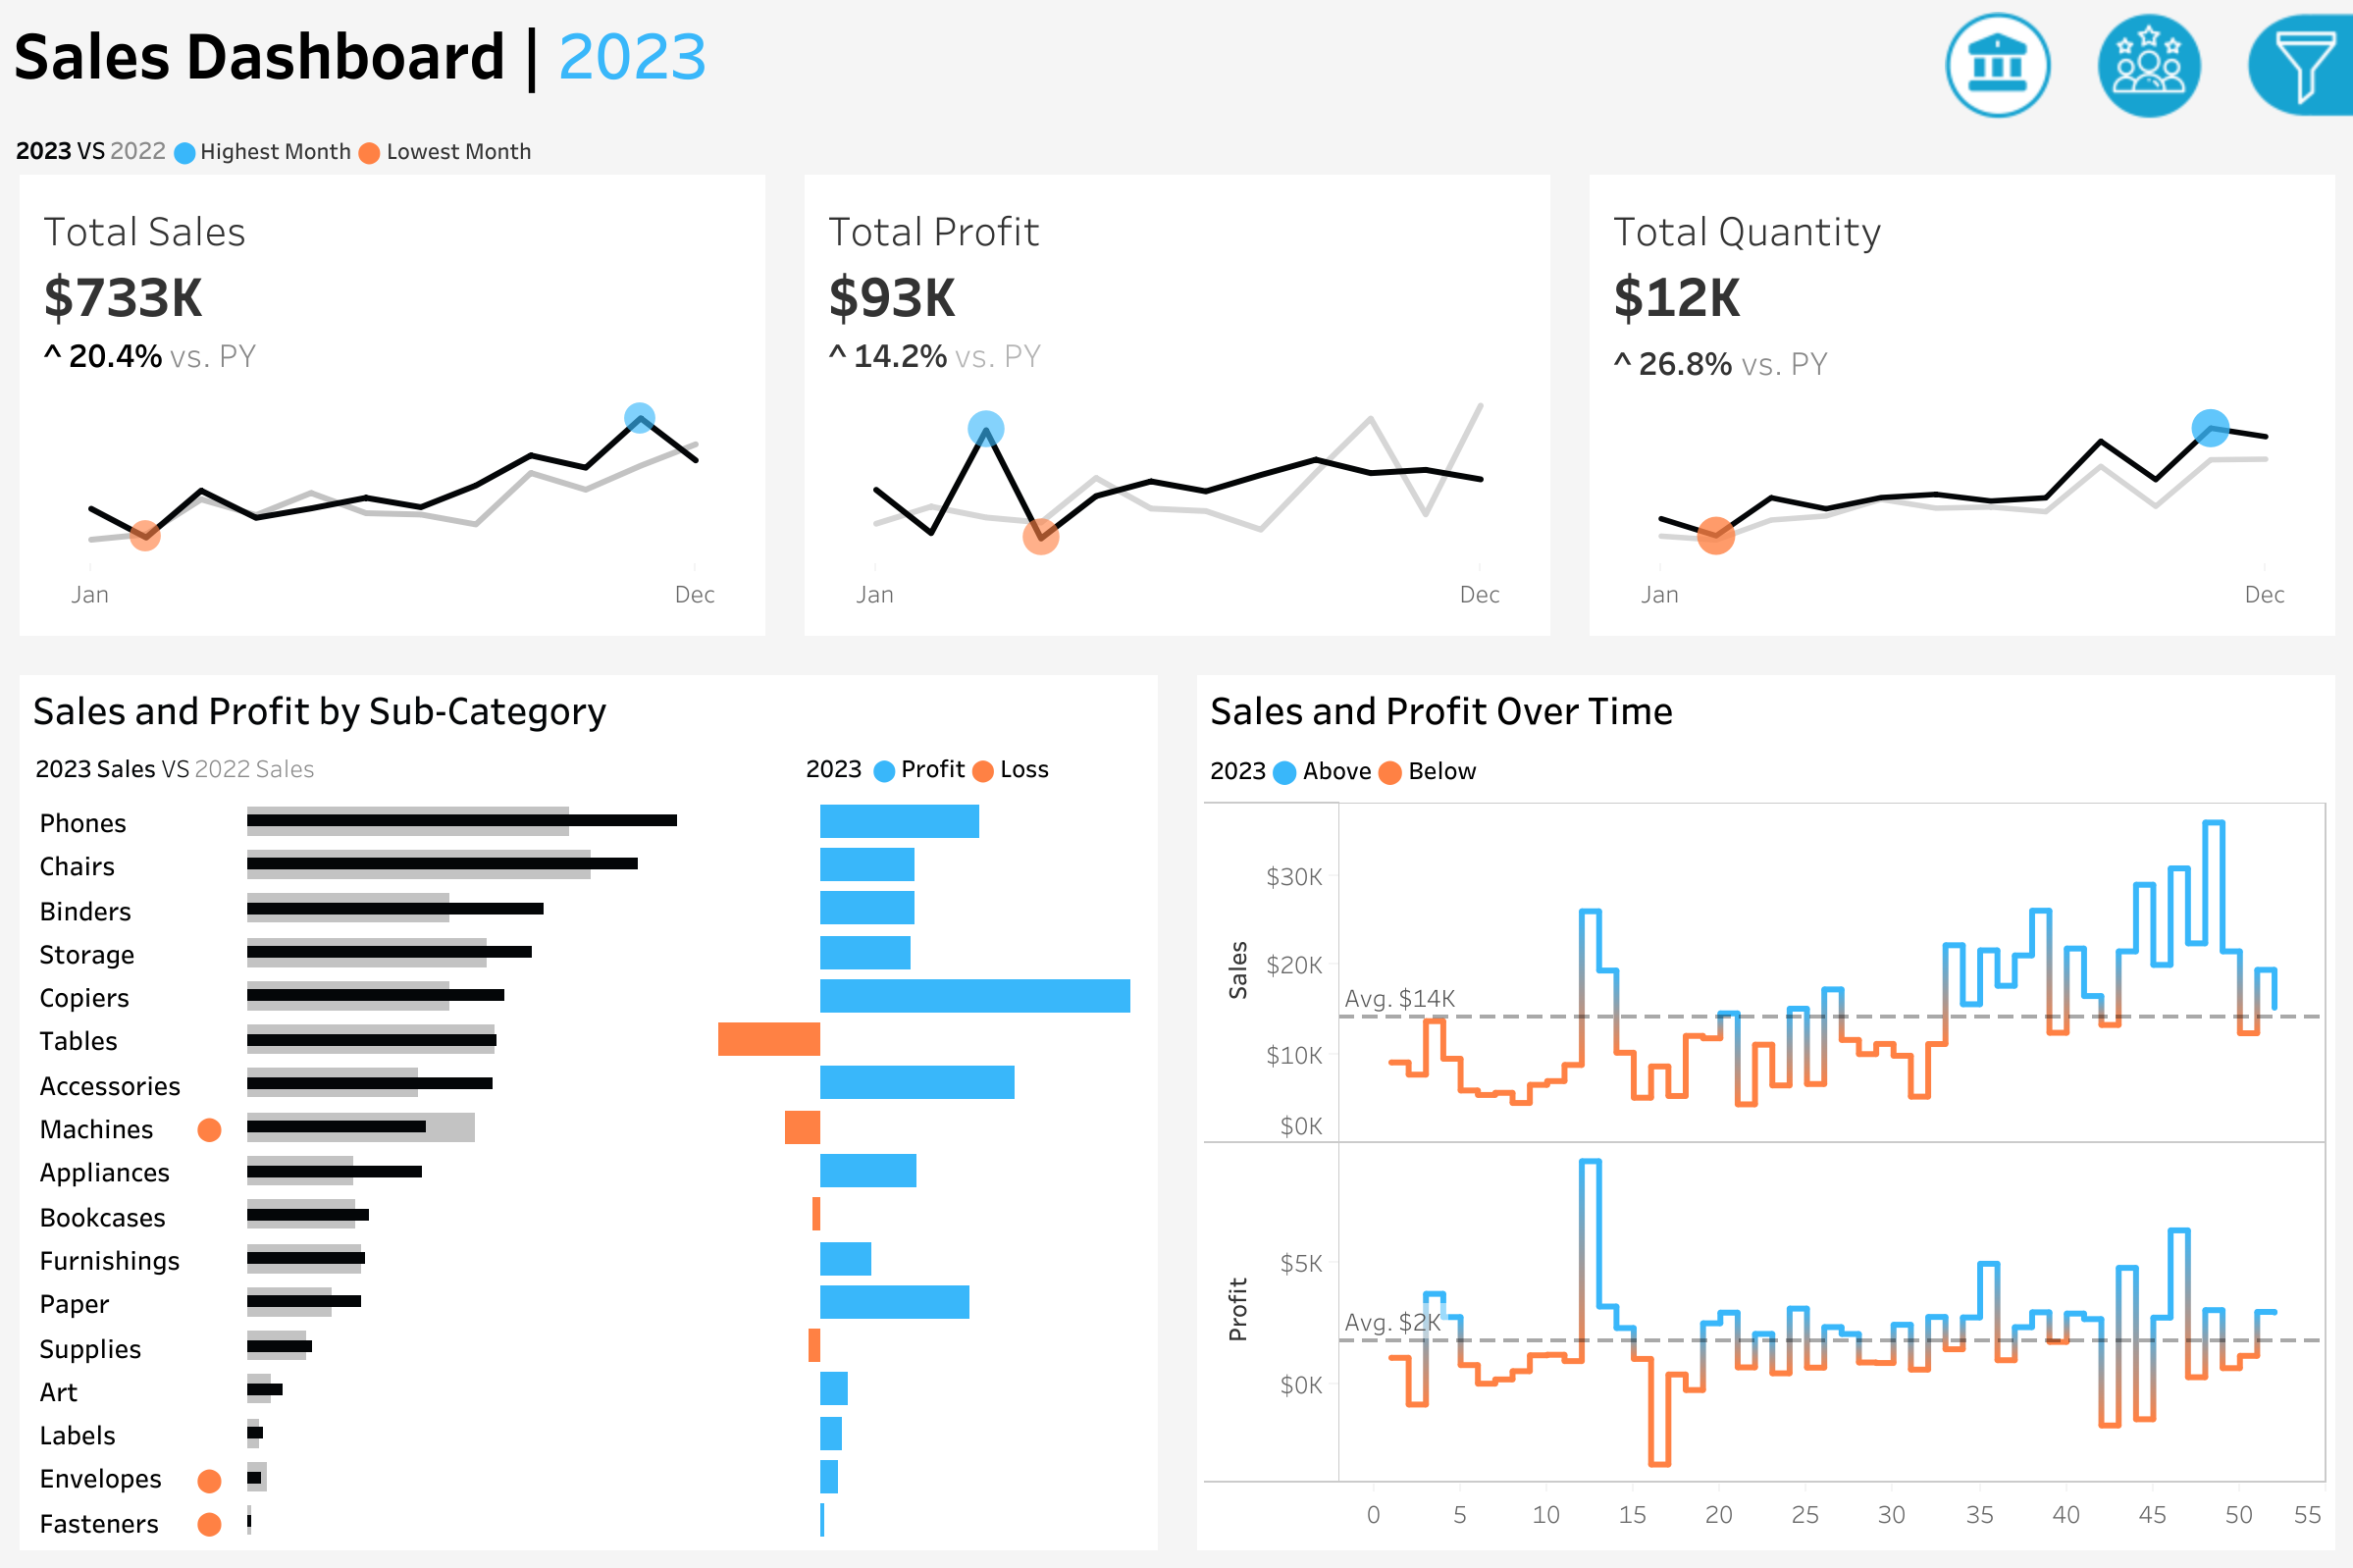

The dashboard page shown, as its layout file describes it:
{"tool":"tableau","page":{"name":"Sales Dashboard","canvas":[1200,800],"ordinal":1},"visuals":[{"type":"text","box":[0,0,1200,53]},{"type":"dashboard-object","box":[980,2,77,63]},{"type":"dashboard-object","box":[1057,2,77,63]},{"type":"blank","box":[993,10,196,69]},{"type":"worksheet","title":"Legend (2)","mark":"Automatic","box":[0,63,1200,26]},{"type":"text","box":[993,79,196,59]},{"type":"worksheet","title":"KPI Sales","mark":"Automatic","rows":["MIN | MAX Quantity (copy)_299419042047496198"],"cols":["Order Date"],"box":[0,89,400,245]},{"type":"worksheet","title":"KPI Profit","mark":"Automatic","rows":["Calculation_205828611909148677"],"cols":["Order Date"],"box":[400,89,400,245]},{"type":"worksheet","title":"KPI Quantity","mark":"Automatic","rows":["Calculation_205828611934814224"],"cols":["Order Date"],"box":[800,89,400,245]},{"type":"parameter","param":"[Parameters].[Parameter 1]","box":[993,138,196,52]},{"type":"text","box":[993,190,196,29]},{"type":"filter","title":"KPI Sales","param":"[federated.1i45uu91itpw5q1952eqr0znw85j].[none:Category:nk]","box":[993,219,196,52]},{"type":"filter","title":"KPI Sales","param":"[federated.1i45uu91itpw5q1952eqr0znw85j].[none:Sub-Category:nk]","box":[993,271,196,52]},{"type":"text","box":[993,323,196,29]},{"type":"text","box":[10,344,580,34]},{"type":"text","box":[610,344,580,34]},{"type":"filter","title":"KPI Sales","param":"[federated.1i45uu91itpw5q1952eqr0znw85j].[none:Region:nk]","box":[993,352,196,52]},{"type":"worksheet","title":"Legend","mark":"Automatic","box":[10,378,394,25]},{"type":"text","box":[404,378,186,25]},{"type":"text","box":[610,378,580,25]},{"type":"worksheet","title":"Sub-Category Comparsion","mark":"Bar","rows":["Sub-Category","Calculation_299419042020941826"],"cols":["Calculation_299419042016567297","Calculation_299419042016423936","Calculation_205828611903479809"],"box":[10,403,580,387]},{"type":"worksheet","title":"Trends by Week","mark":"Automatic","rows":["Calculation_299419042016423936","Calculation_205828611903479809"],"cols":["Order Date"],"box":[610,403,580,387]},{"type":"filter","title":"KPI Sales","param":"[federated.1i45uu91itpw5q1952eqr0znw85j].[none:State:nk]","box":[993,404,196,52]},{"type":"filter","title":"KPI Sales","param":"[federated.1i45uu91itpw5q1952eqr0znw85j].[none:City:nk]","box":[993,456,196,52]}]}

Visuals, with their boxes in screenshot pixels (x1, y1, x2, y2), scaled from the page's 1200x800 canvas onto the 2353x1568 screenshot:
text: bbox(0, 0, 2352, 104)
dashboard-object: bbox(1921, 4, 2072, 128)
dashboard-object: bbox(2072, 4, 2223, 128)
blank: bbox(1947, 20, 2331, 155)
"Legend (2)" worksheet: bbox(0, 124, 2352, 175)
text: bbox(1947, 155, 2331, 271)
"KPI Sales" worksheet: bbox(0, 175, 784, 654)
"KPI Profit" worksheet: bbox(784, 175, 1569, 654)
"KPI Quantity" worksheet: bbox(1569, 175, 2352, 654)
parameter: bbox(1947, 271, 2331, 373)
text: bbox(1947, 373, 2331, 429)
"KPI Sales" filter: bbox(1947, 429, 2331, 531)
"KPI Sales" filter: bbox(1947, 531, 2331, 633)
text: bbox(1947, 633, 2331, 690)
text: bbox(20, 674, 1157, 741)
text: bbox(1196, 674, 2333, 741)
"KPI Sales" filter: bbox(1947, 690, 2331, 792)
"Legend" worksheet: bbox(20, 741, 792, 790)
text: bbox(792, 741, 1157, 790)
text: bbox(1196, 741, 2333, 790)
"Sub-Category Comparsion" worksheet (Bar marks): bbox(20, 790, 1157, 1548)
"Trends by Week" worksheet: bbox(1196, 790, 2333, 1548)
"KPI Sales" filter: bbox(1947, 792, 2331, 894)
"KPI Sales" filter: bbox(1947, 894, 2331, 996)
